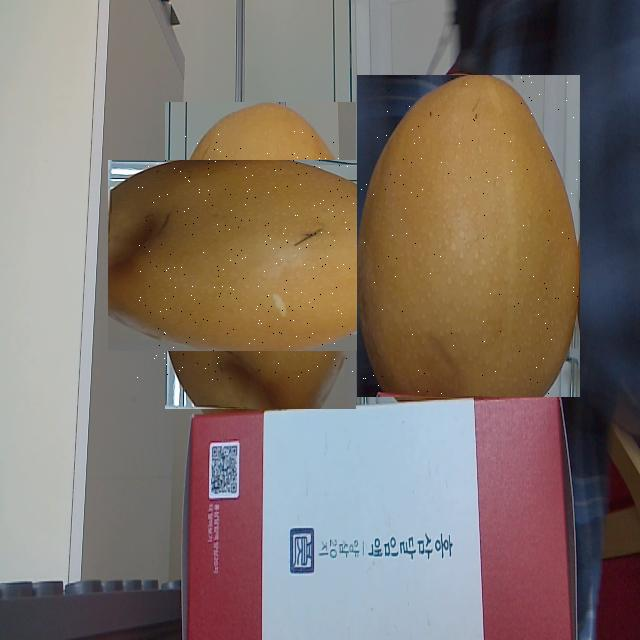pear: (357, 75, 580, 397), (136, 131, 385, 380)
